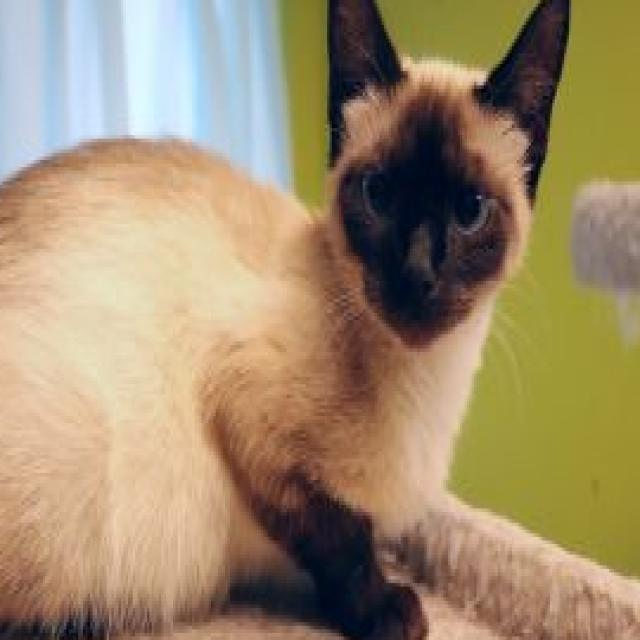Siamese: (0, 0, 574, 640)
